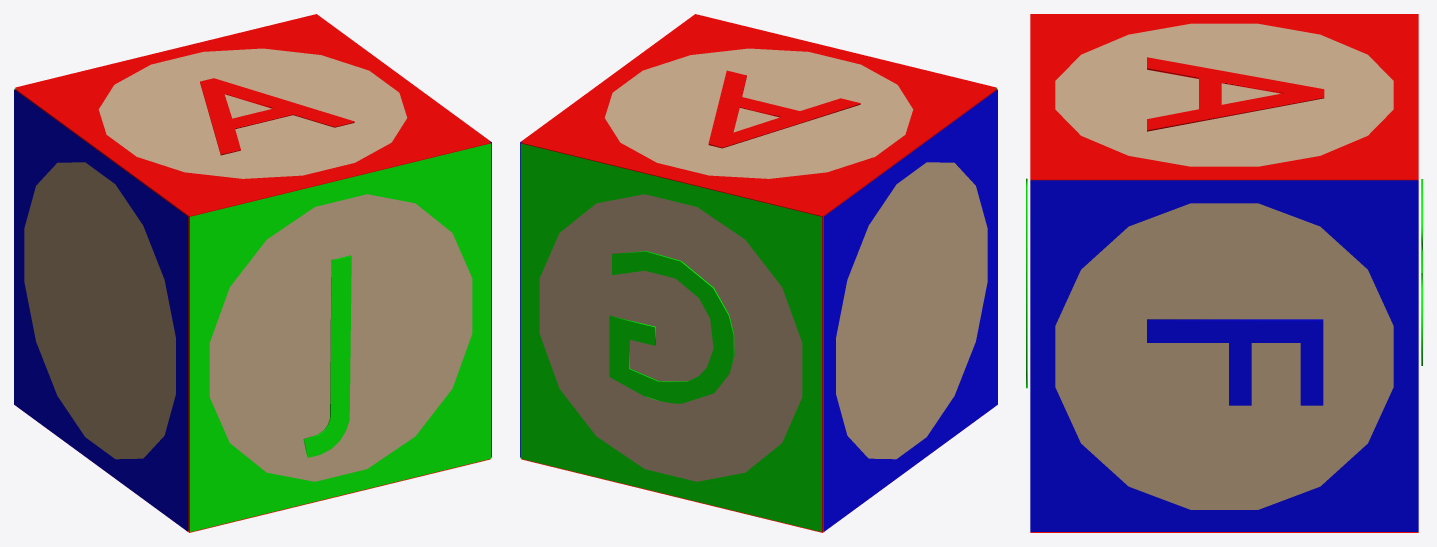
3 renders of one model, left to right at view 1: azimuth 30°, elevation 25°; view 2: azimuth 150°, elevation 25°; view 3: azimuth 270°, elevation 25°, orthographic. The views are drawn at different scales.
Visible parts, largest first — view 1: cube; view 2: cube; view 3: cube.
Boxes of the visible parts, x1,y1,x2,y2 form: cube: (14,14,491,532); cube: (520,14,997,532); cube: (1026,14,1422,532).
Size of the model in its own units: 0.0458 by 0.046 by 0.046.
